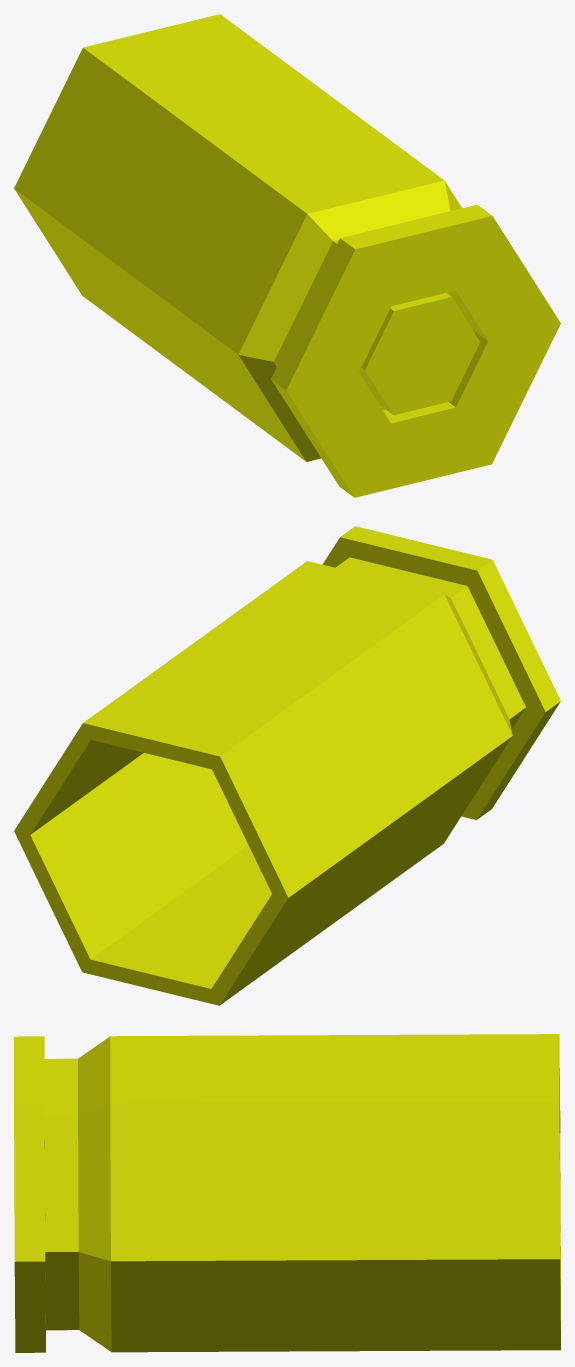
File: Casing.fbx
3 renders of one model, top to bottom at view 1: azimuth 30°, elevation 25°; view 2: azimuth 150°, elevation 25°; view 3: azimuth 270°, elevation 25°, orthographic.
Parts seen in each view (by area): view 1: Cube.001; view 2: Cube.001; view 3: Cube.001.
Part boxes in pixels (x1,y1,x2,y2): Cube.001: [14, 14, 560, 497]; Cube.001: [14, 526, 560, 1005]; Cube.001: [14, 1034, 560, 1352].
Size of the model in its own units: 0.9653 by 0.8442 by 1.66.
